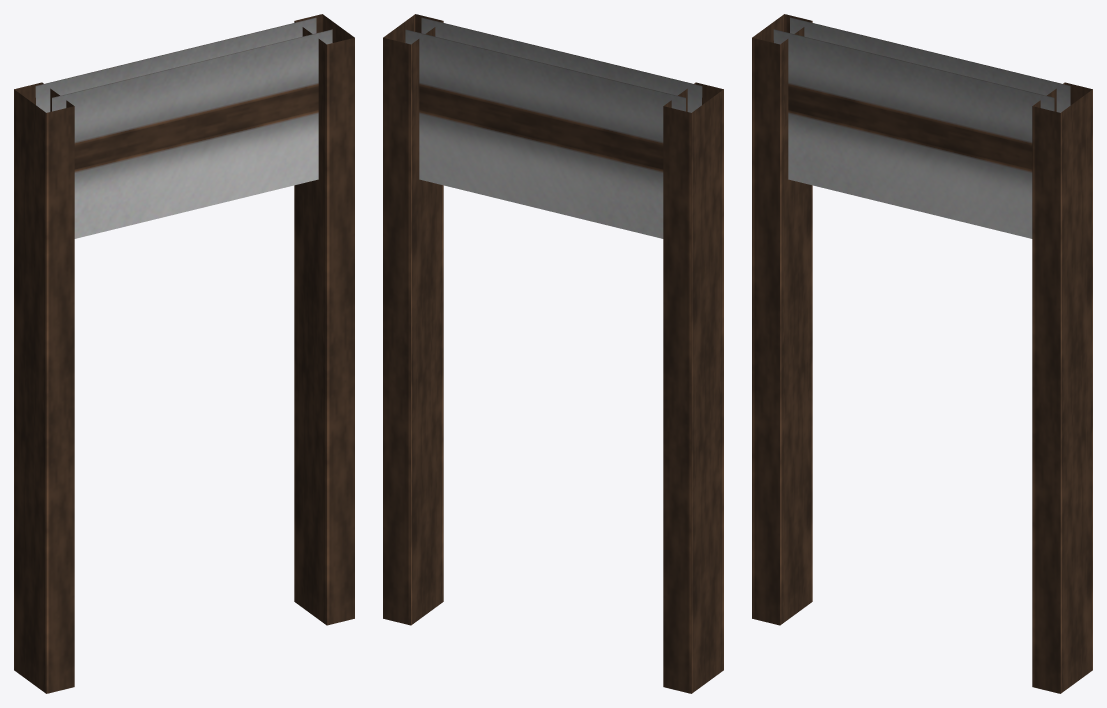
The model's file is house_enterance_2x4.fbx.
3 views of the same model, side by side, from view 1: azimuth 30°, elevation 25°; view 2: azimuth 150°, elevation 25°; view 3: azimuth 330°, elevation 25° (orthographic).
Parts seen in each view (by area): view 1: house_enterance_2x4; view 2: house_enterance_2x4; view 3: house_enterance_2x4.
Part boxes in pixels (x1,y1,x2,y2): house_enterance_2x4: (14, 14, 354, 693); house_enterance_2x4: (383, 14, 723, 693); house_enterance_2x4: (752, 14, 1092, 693).
Size of the model in its own units: 220 by 400 by 40.
